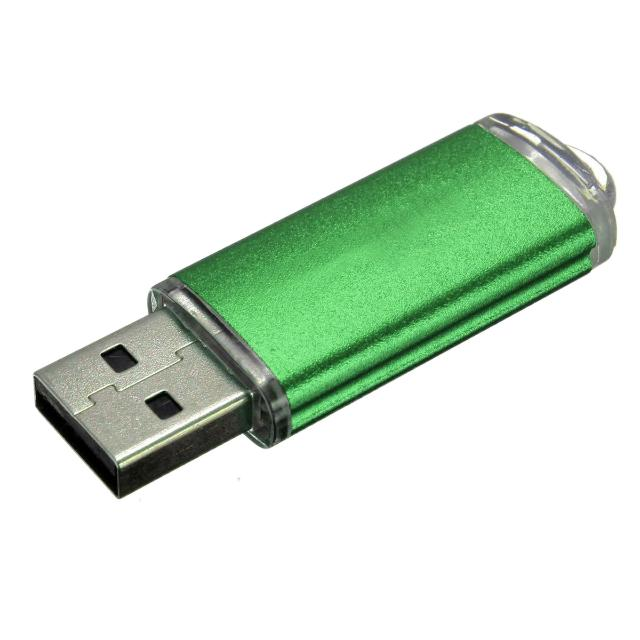USB-Flash-Drive: (22, 100, 628, 520)
